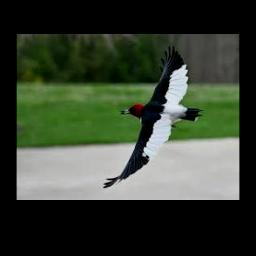Woodpecker: (104, 45, 203, 188)
